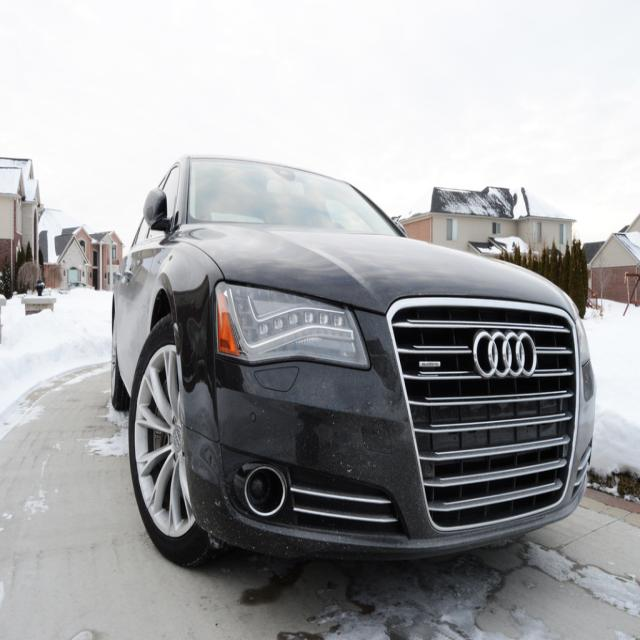Car: (110, 152, 598, 570)
